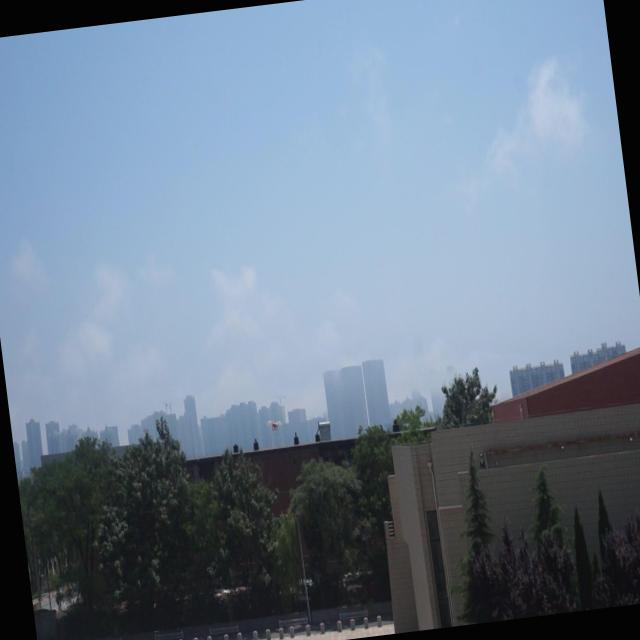drone: (265, 415, 283, 434)
